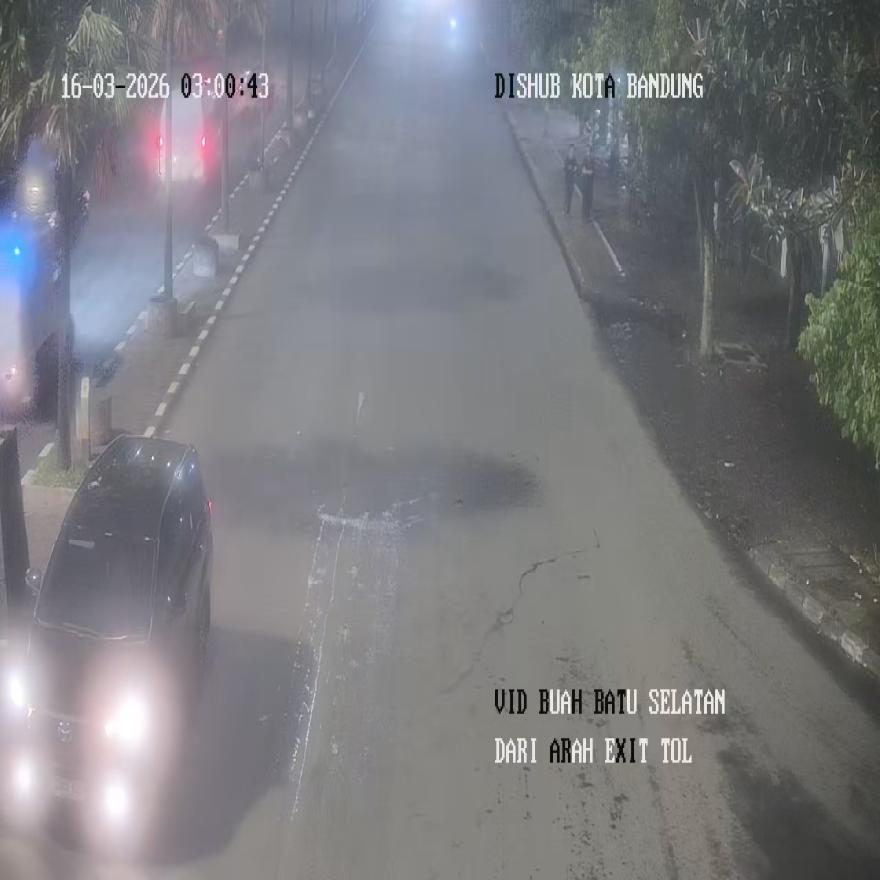Mobil: (5, 434, 214, 838)
